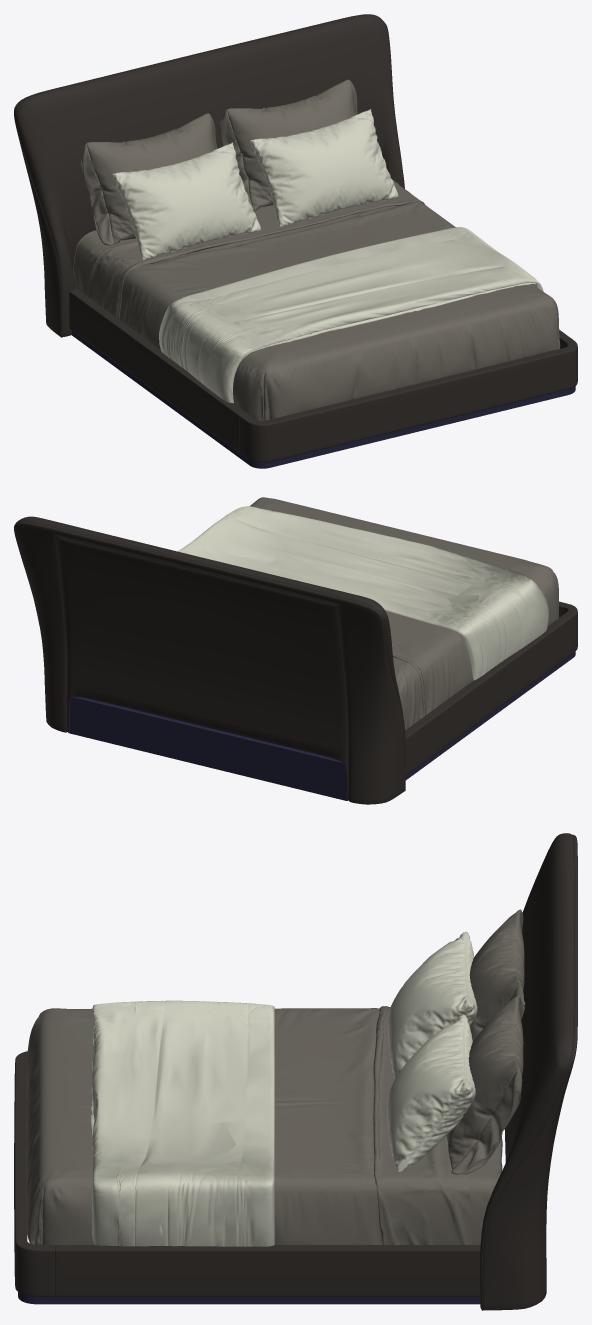
The model's file is WRC1025-808E_v4-transformed.glb.
3 renders of one model, top to bottom at view 1: azimuth 30°, elevation 25°; view 2: azimuth 150°, elevation 25°; view 3: azimuth 270°, elevation 25°, orthographic. The views are drawn at different scales.
Parts seen in each view (by area): view 1: 5; view 2: 5; view 3: 5.
Part boxes in pixels (left/top/right/bottom): 5: left=14, top=14, right=577, bottom=468; 5: left=14, top=497, right=577, bottom=804; 5: left=14, top=833, right=577, bottom=1310.
Bounding box in the file's own units: 0.0217 × 0.0121 × 0.0228.
